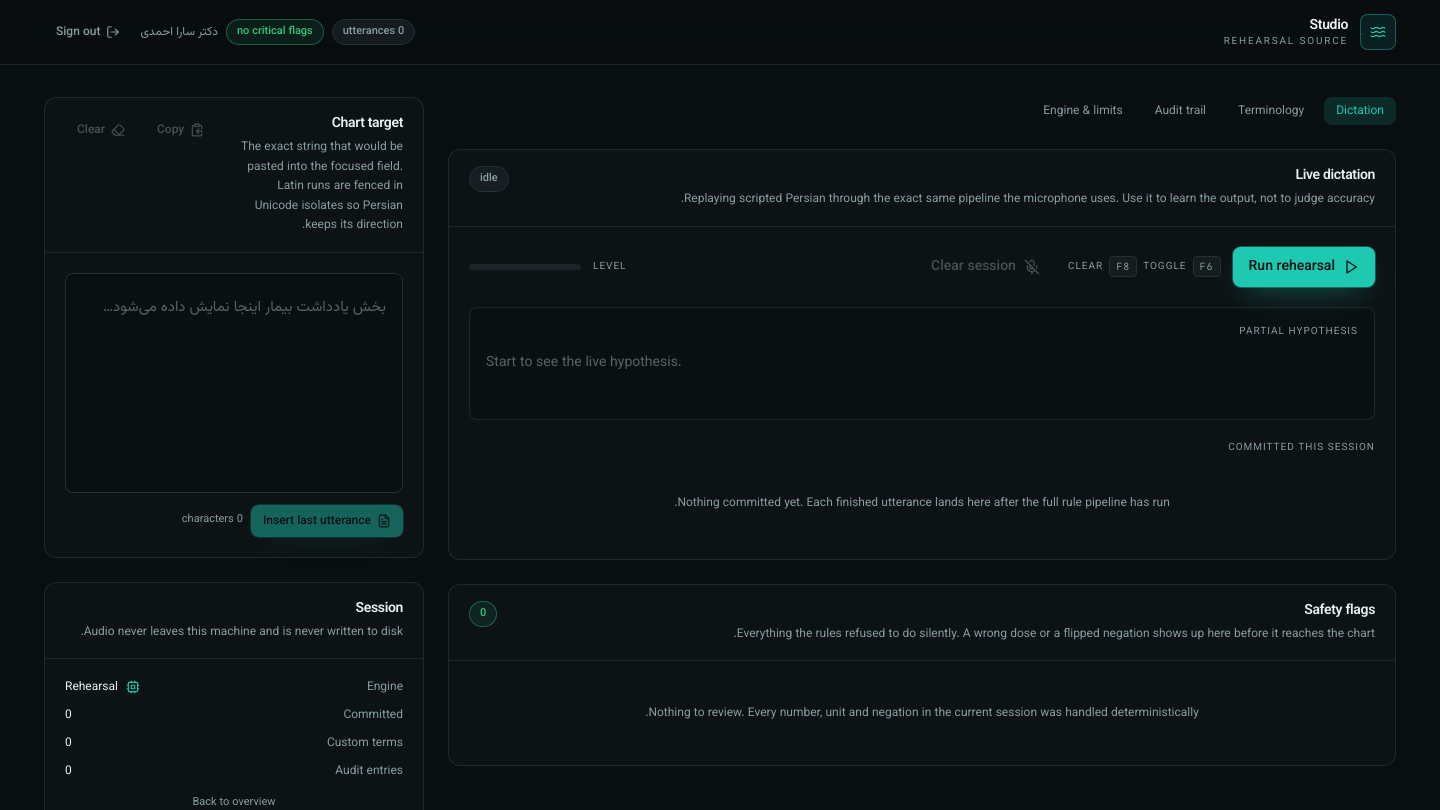
studio › states the limitations instead of hiding them
This screenshot has width=1440, height=810.
Expected: the heading "Chart target" is shown, [332,113,403,135]
Click the button "Engine & limits" at (1083, 111), box [1031,97,1135,125]
(page scrolled)
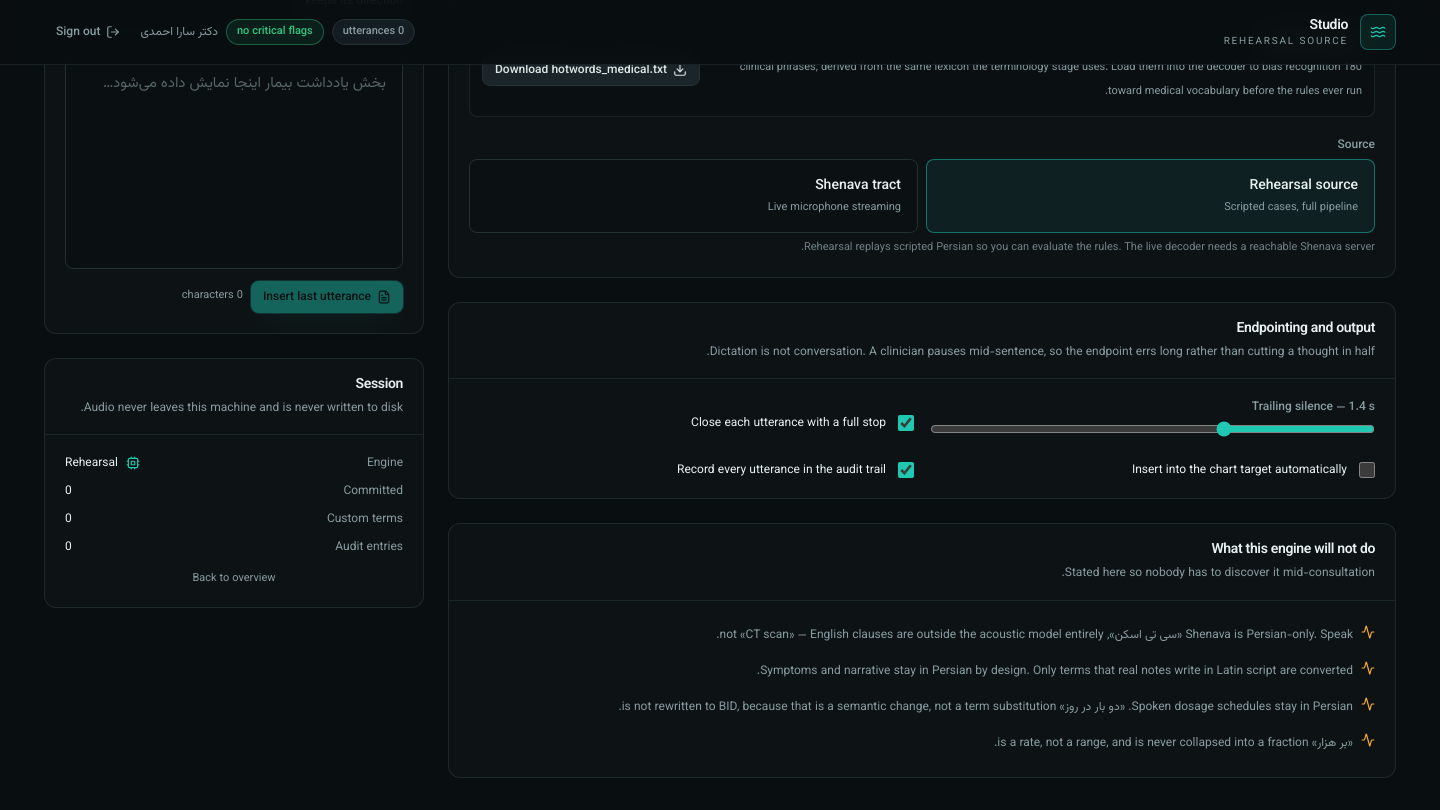
Now the list item "Persian-only. Speak" is shown, box [716,626,1353,644]
